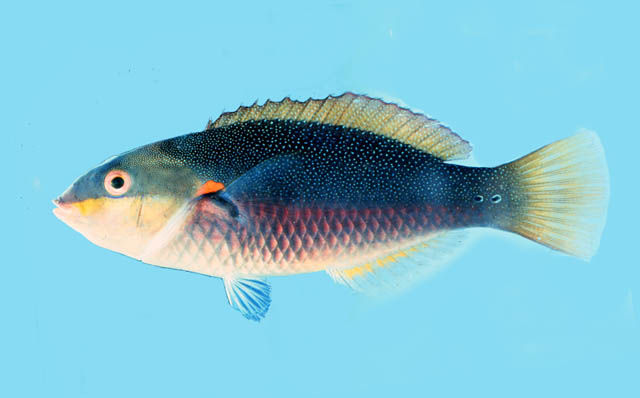fish: (49, 90, 611, 323)
